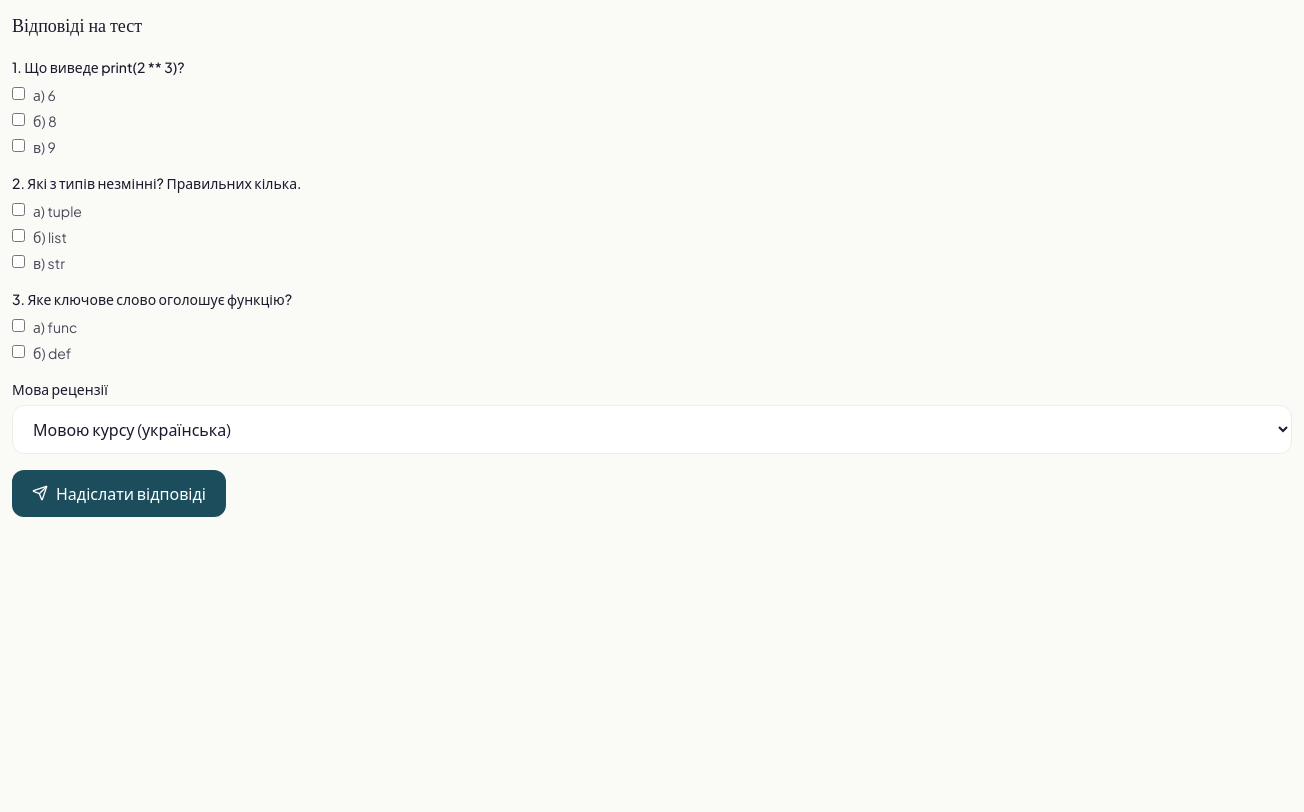
Test: PortalTestForm — прапорці й подача › after the submission hands over to the attempts list, as for a file
The image size is (1304, 812).
Step 1. Click the checkbox labelled "б) 8" → (18, 119), box x1=12 y1=113 x2=25 y2=126
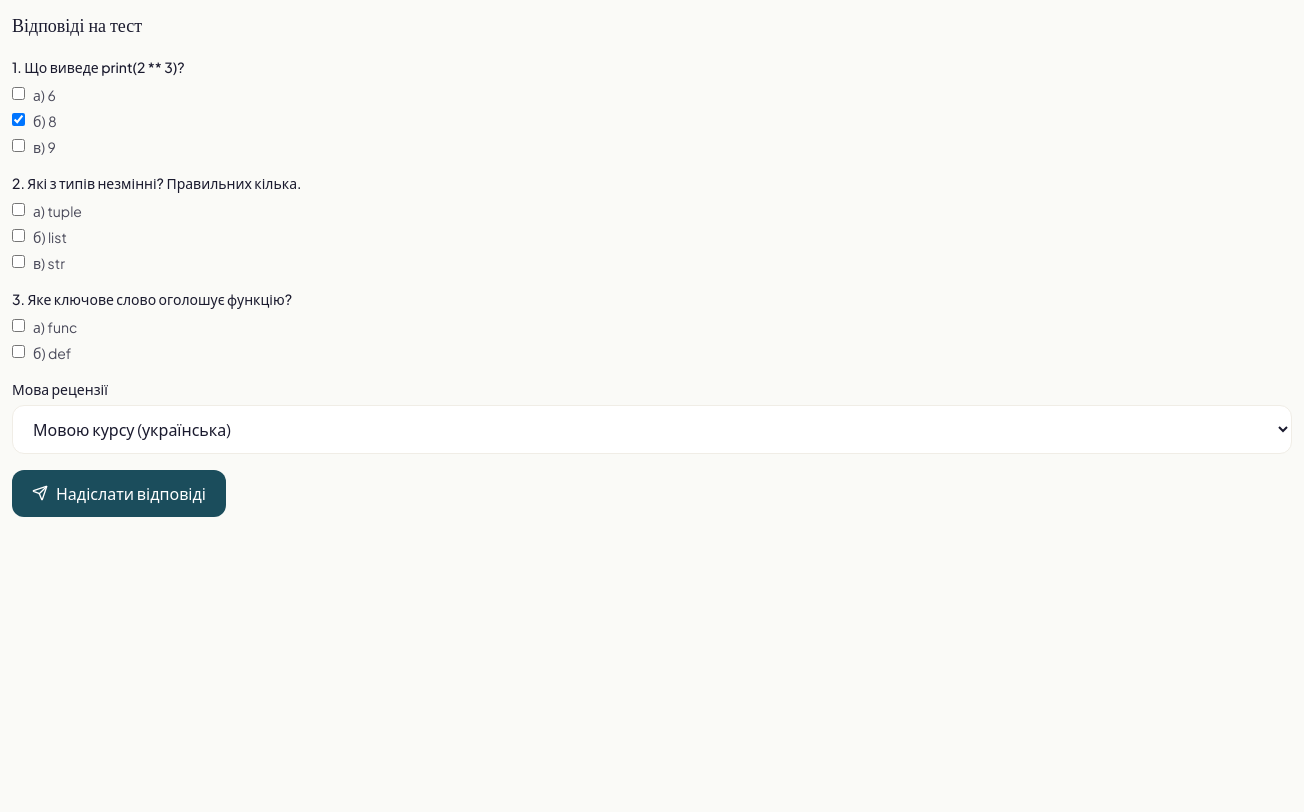
Step 2. Click the checkbox labelled "а) tuple" → (18, 209), box x1=12 y1=203 x2=25 y2=216
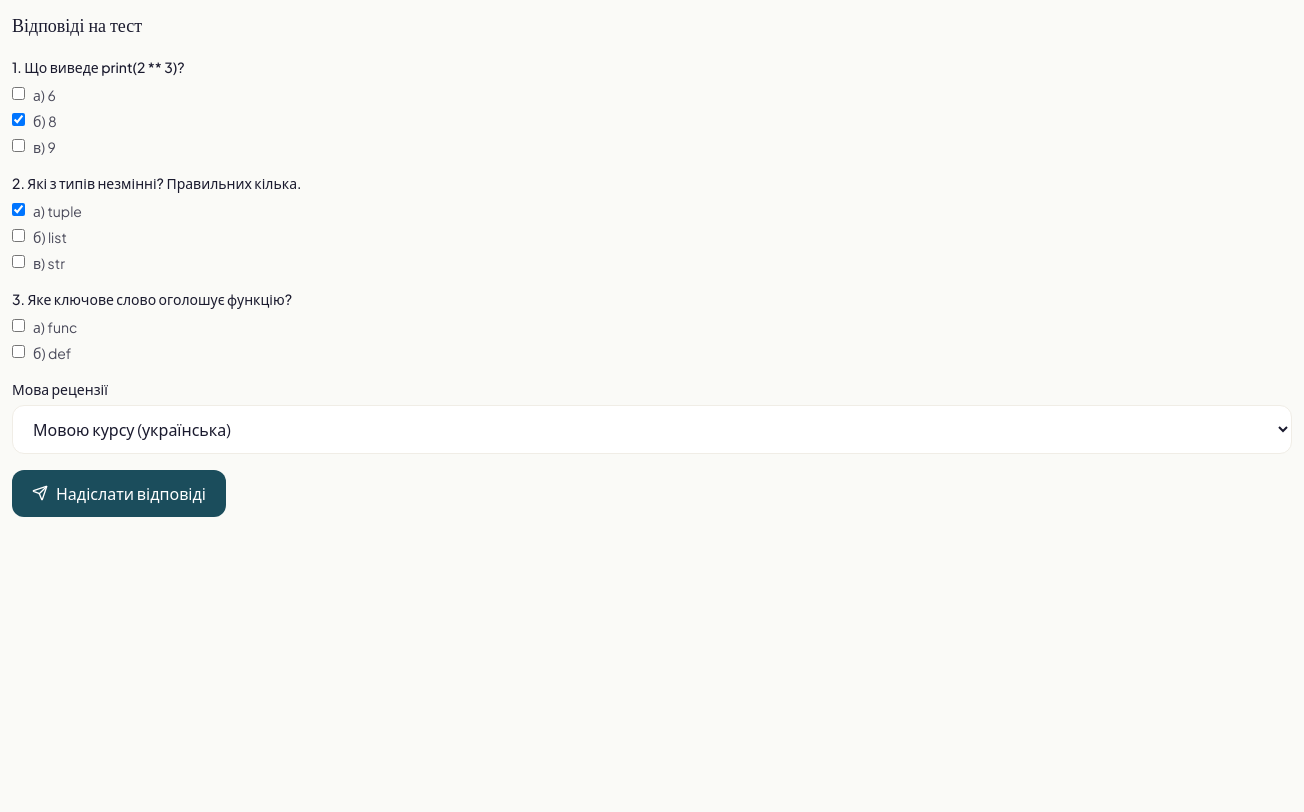
Step 3. Click the checkbox labelled "в) str" → (18, 261), box x1=12 y1=255 x2=25 y2=268
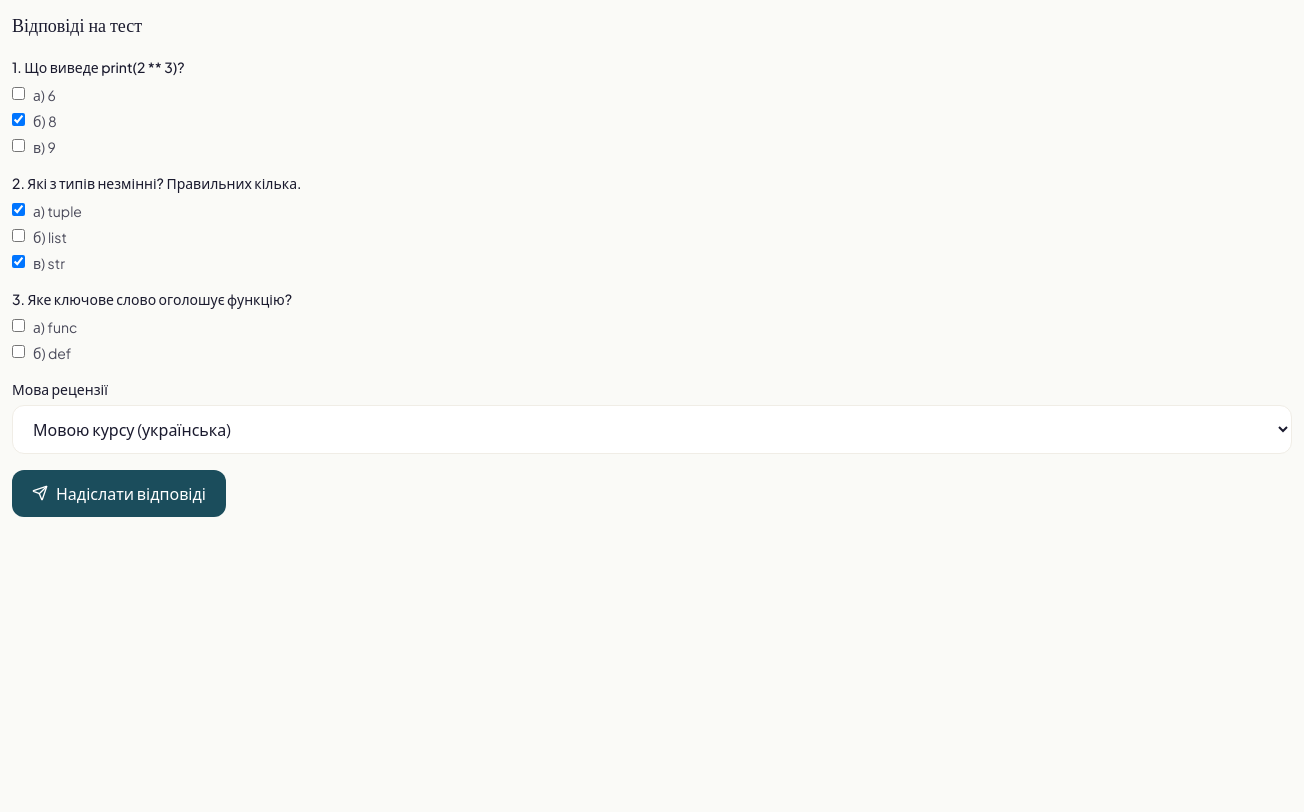
Step 4. Click the checkbox labelled "б) def" → (18, 351), box x1=12 y1=345 x2=25 y2=358
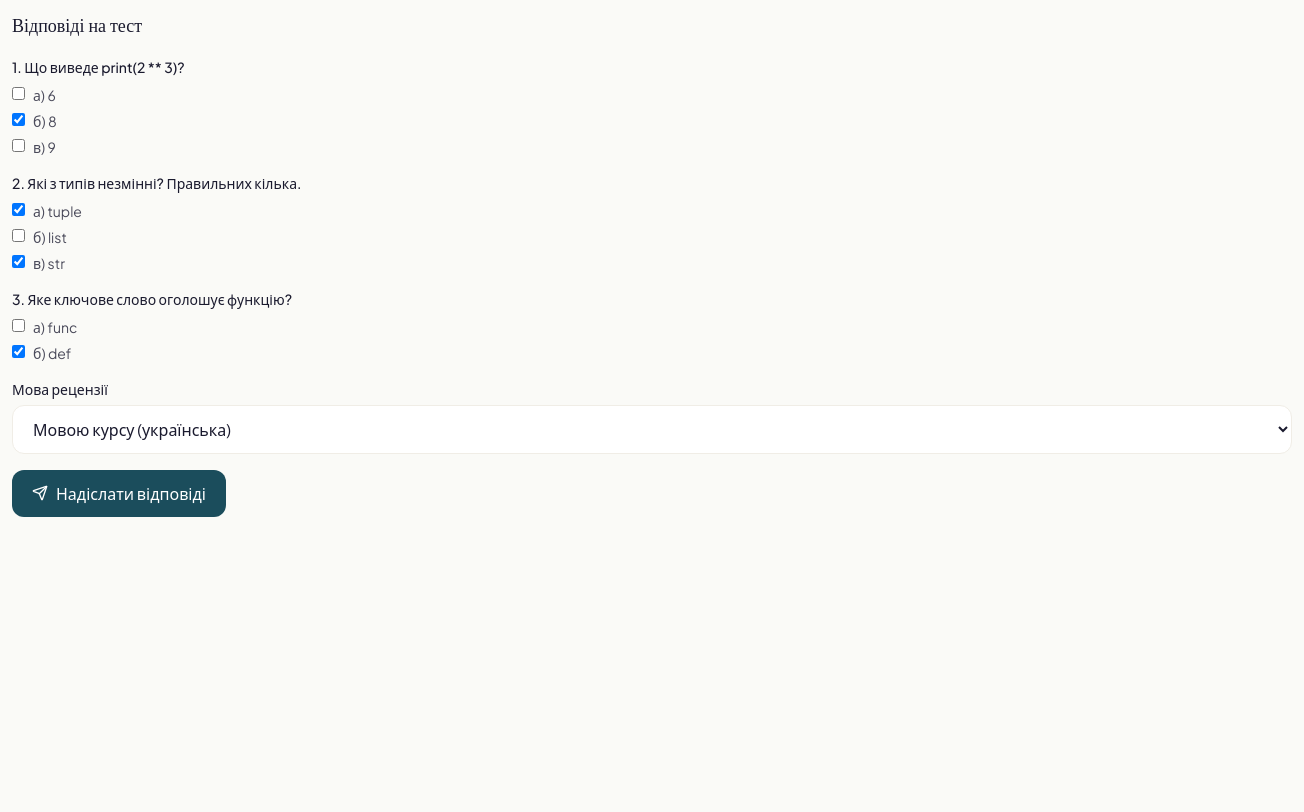
Step 5. Click the button "Надіслати відповіді" → (119, 493), box x1=12 y1=470 x2=226 y2=517
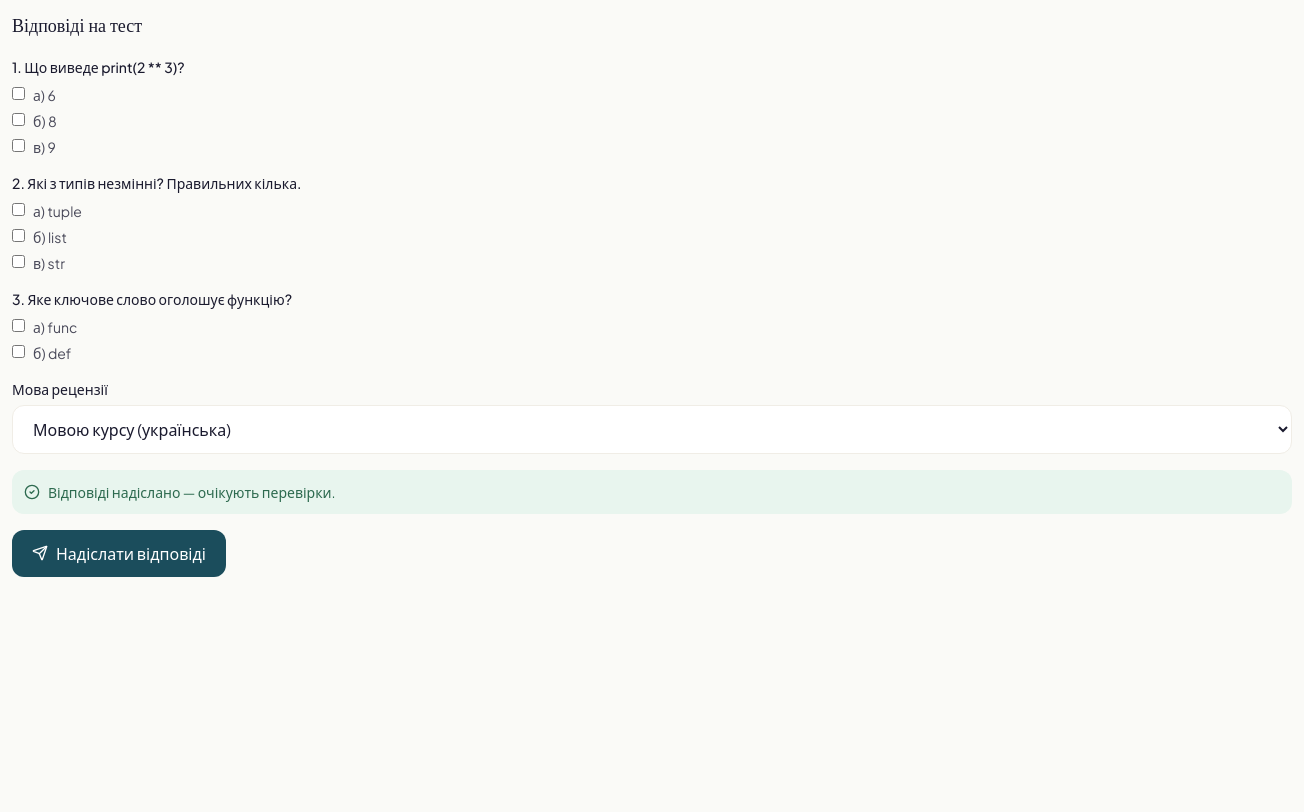
Now the checkbox labelled "б) 8" is not checked, box x1=12 y1=113 x2=25 y2=126
Now the text "Відповіді надіслано — очікують перевірки." is shown, box x1=12 y1=470 x2=1292 y2=514
